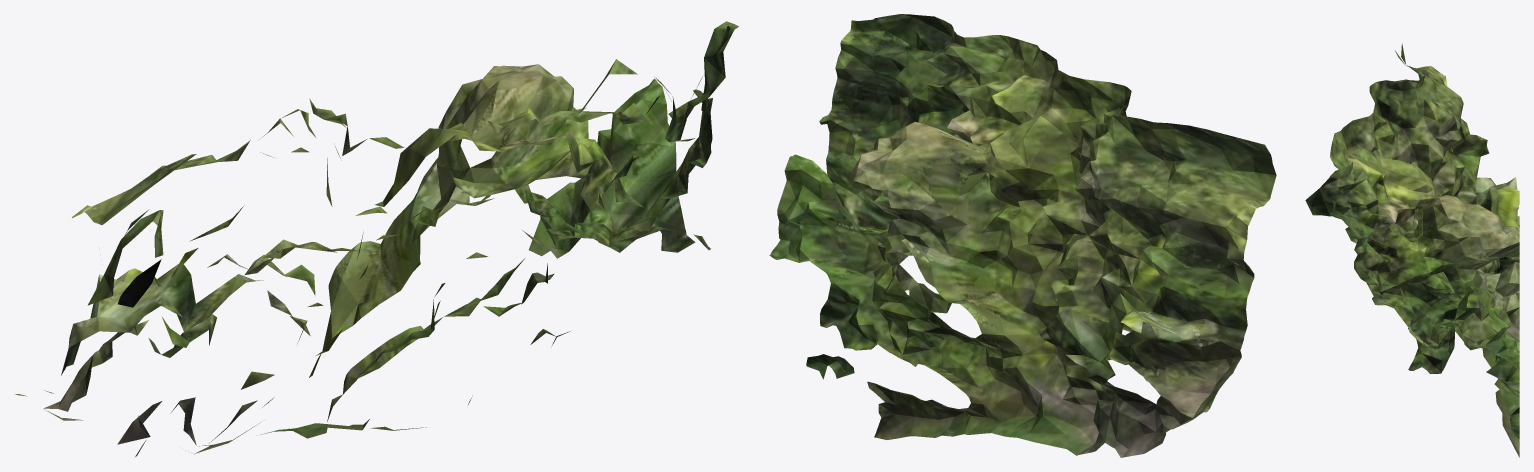
The picture shows the model from 3 angles, left to right: view 1: azimuth 30°, elevation 25°; view 2: azimuth 150°, elevation 25°; view 3: azimuth 270°, elevation 25°; orthographic projection. The views are drawn at different scales.
Size of the model in its own units: 26.11 by 18.9 by 12.31.
Materials: 3 (3 with a texture image).
